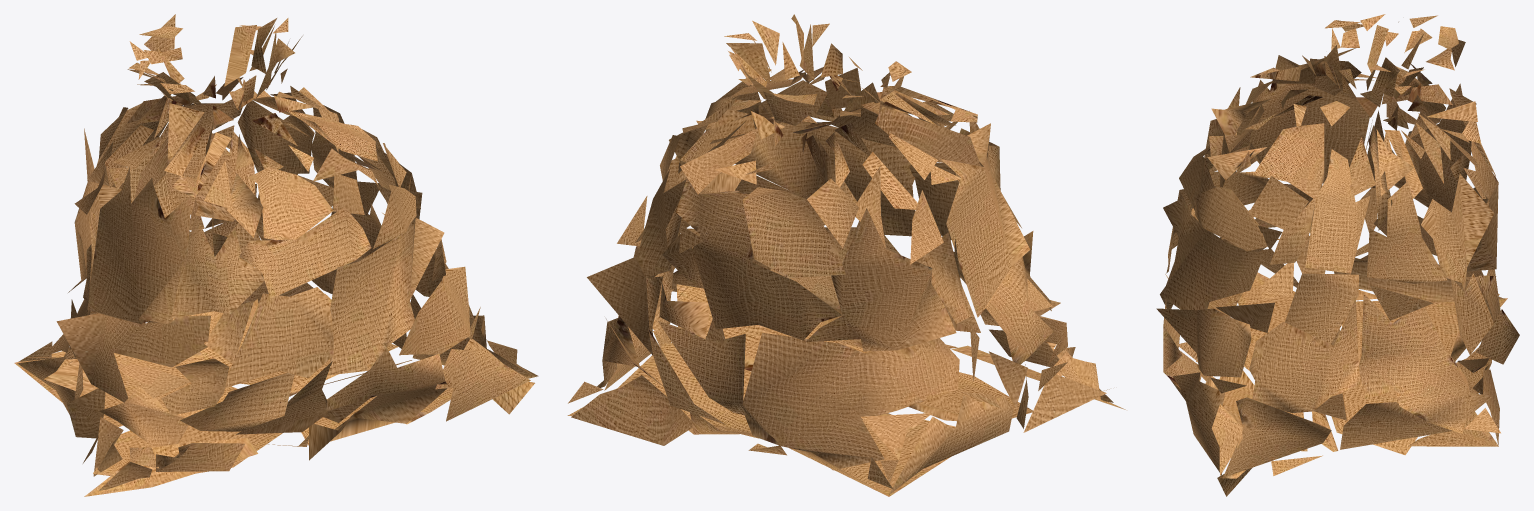
File: sacco.glb
3 views of the same model, side by side, from view 1: azimuth 30°, elevation 25°; view 2: azimuth 150°, elevation 25°; view 3: azimuth 270°, elevation 25° (orthographic). The views are drawn at different scales.
Visible parts, largest first — view 1: Mesh_0; view 2: Mesh_0; view 3: Mesh_0.
Part boxes in pixels (x1=…): Mesh_0: x1=14, y1=14, x2=538, y2=496; Mesh_0: x1=567, y1=14, x2=1125, y2=496; Mesh_0: x1=1156, y1=14, x2=1519, y2=496.
Size of the model in its own units: 1.9 by 1.5 by 1.34.
Materials: 1 (1 with a texture image).
